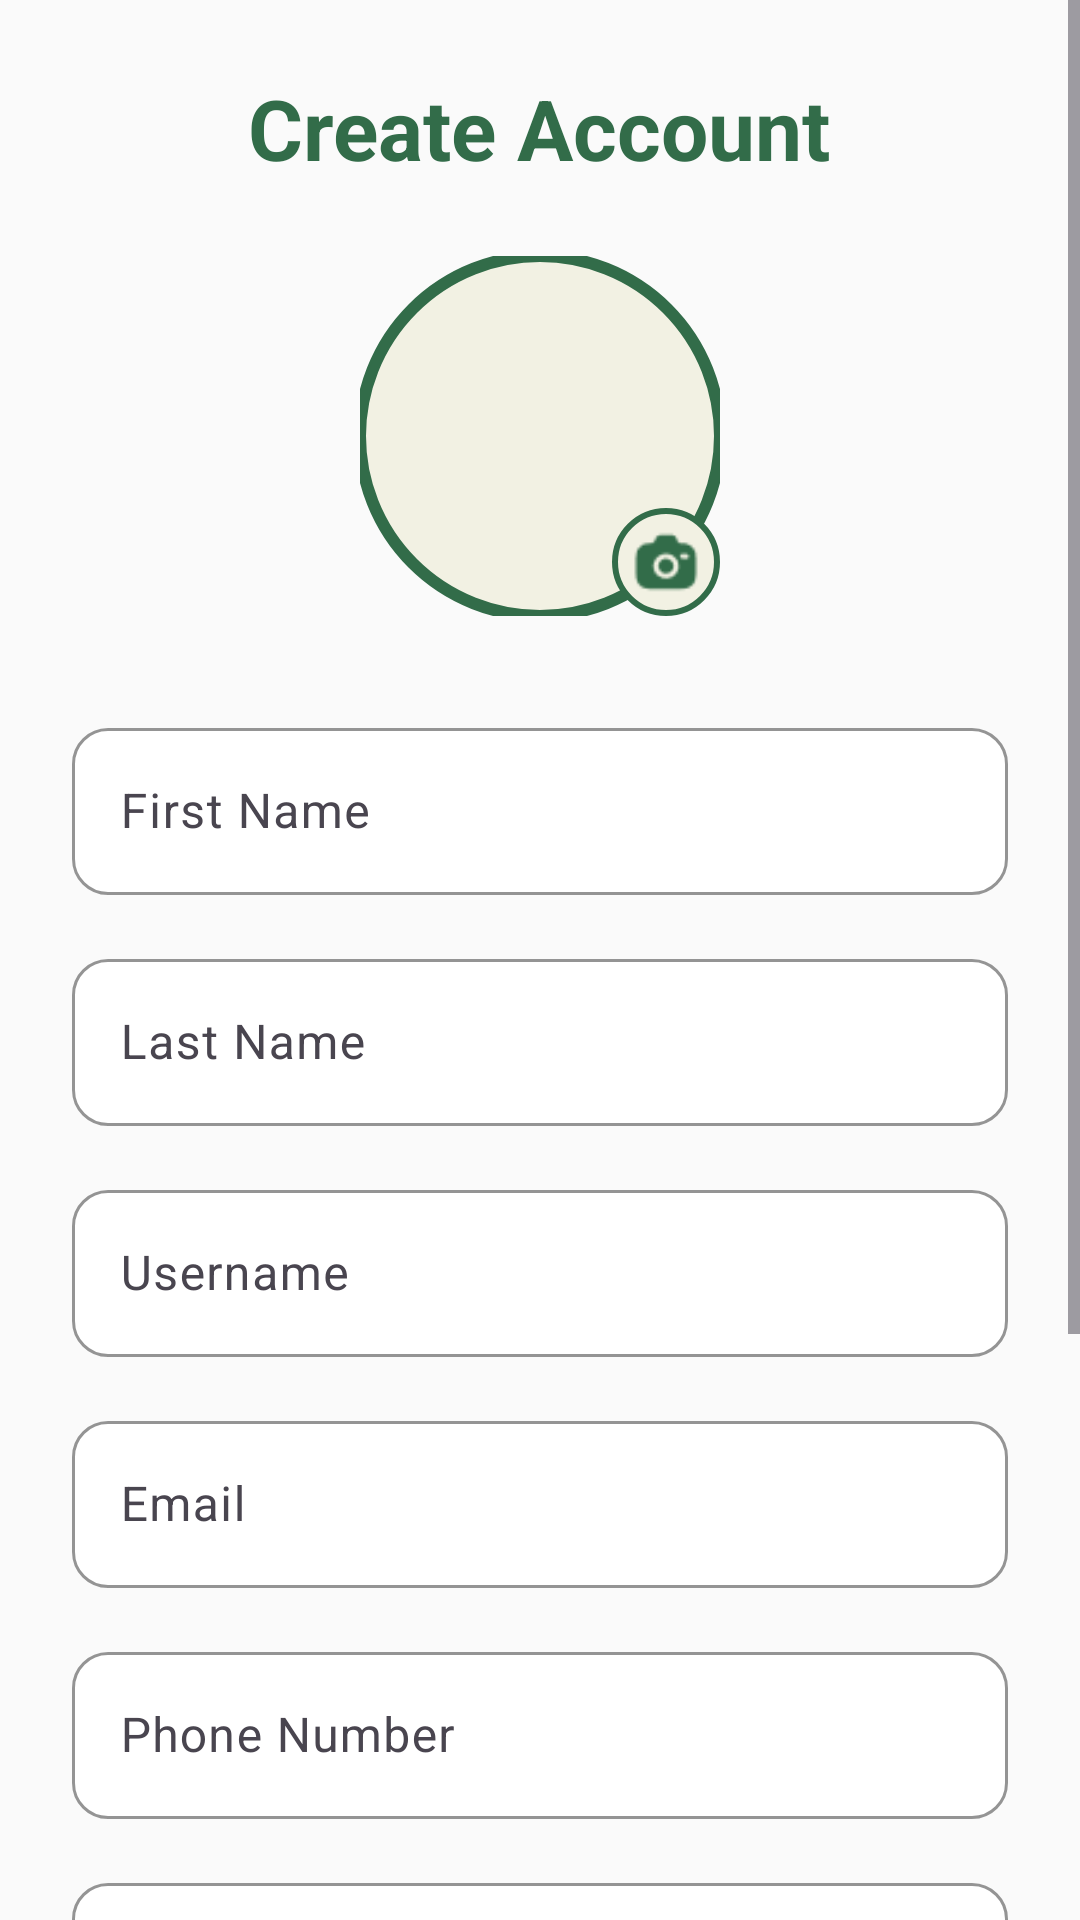

Where to tap for icons on this 1080w x 1920h app screen, as point (x, y):
camera: point (666, 562)
